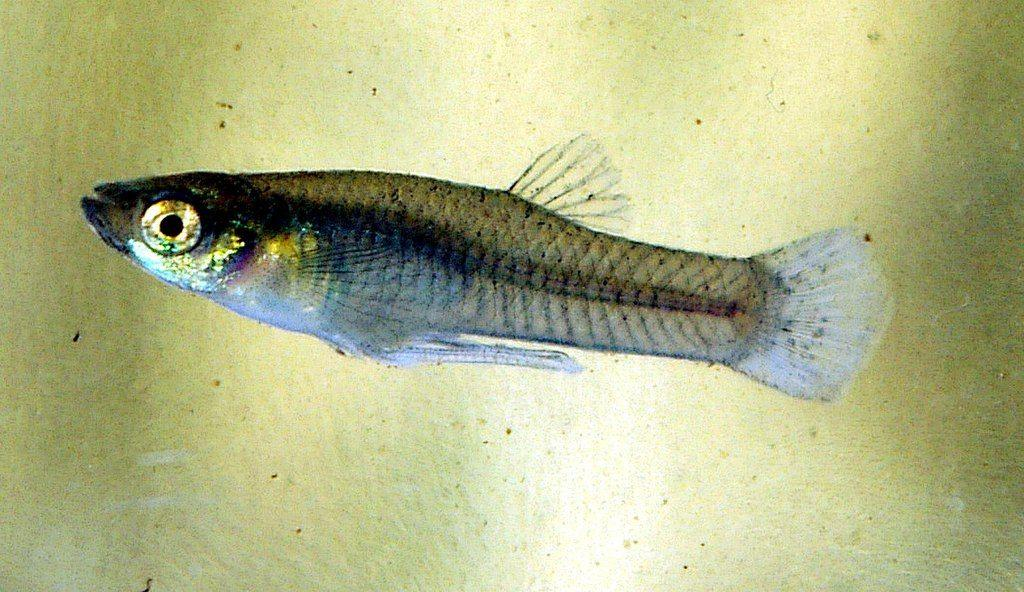Mosquito Fish: (83, 131, 900, 421)
